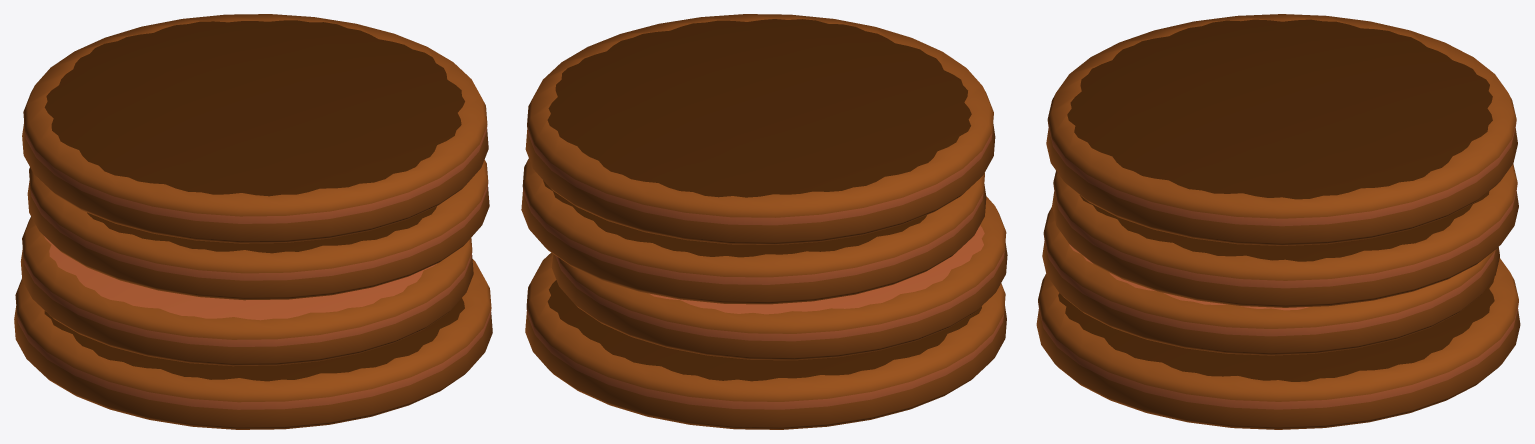
Rendered from PanCake_Cake_miss.fbx.
The picture shows the model from 3 angles, left to right: view 1: azimuth 30°, elevation 25°; view 2: azimuth 150°, elevation 25°; view 3: azimuth 270°, elevation 25°; orthographic projection.
Visible parts, largest first — view 1: PanCake_miss_top, PanCake_miss_under, PanCake_miss_middle_under, PanCake_miss_midle_upper; view 2: PanCake_miss_top, PanCake_miss_under, PanCake_miss_midle_upper, PanCake_miss_middle_under; view 3: PanCake_miss_top, PanCake_miss_under, PanCake_miss_midle_upper, PanCake_miss_middle_under.
Part boxes in pixels (x1=…): PanCake_miss_top: x1=22, y1=14, x2=488, y2=243; PanCake_miss_under: x1=14, y1=259, x2=492, y2=429; PanCake_miss_middle_under: x1=20, y1=216, x2=473, y2=366; PanCake_miss_midle_upper: x1=27, y1=159, x2=489, y2=300; PanCake_miss_top: x1=525, y1=14, x2=995, y2=244; PanCake_miss_under: x1=525, y1=252, x2=1006, y2=429; PanCake_miss_midle_upper: x1=521, y1=158, x2=986, y2=304; PanCake_miss_middle_under: x1=551, y1=196, x2=1007, y2=360; PanCake_miss_top: x1=1046, y1=14, x2=1517, y2=245; PanCake_miss_under: x1=1036, y1=258, x2=1520, y2=429; PanCake_miss_midle_upper: x1=1052, y1=164, x2=1518, y2=307; PanCake_miss_middle_under: x1=1042, y1=207, x2=1499, y2=355.
Size of the model in its own units: 0.9782 by 0.5332 by 0.975.
